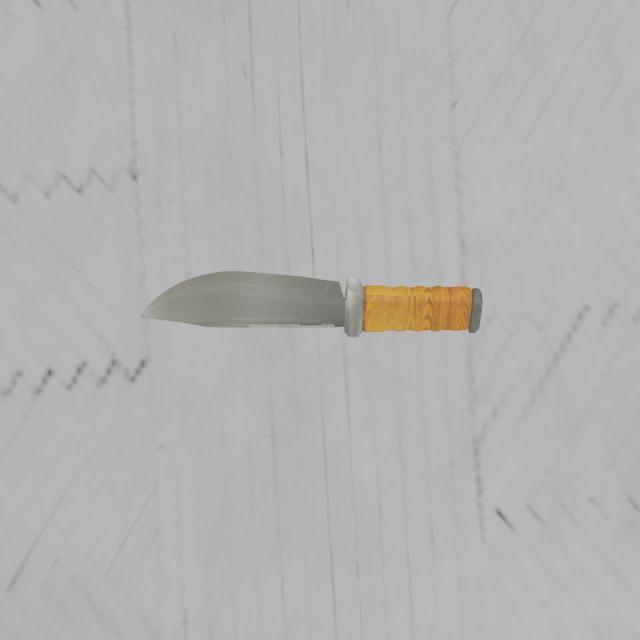knife: (344, 286, 479, 337)
